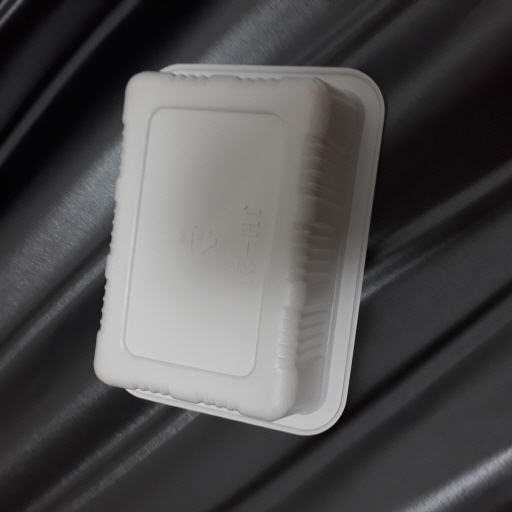Plastic_4: (93, 59, 387, 437)
